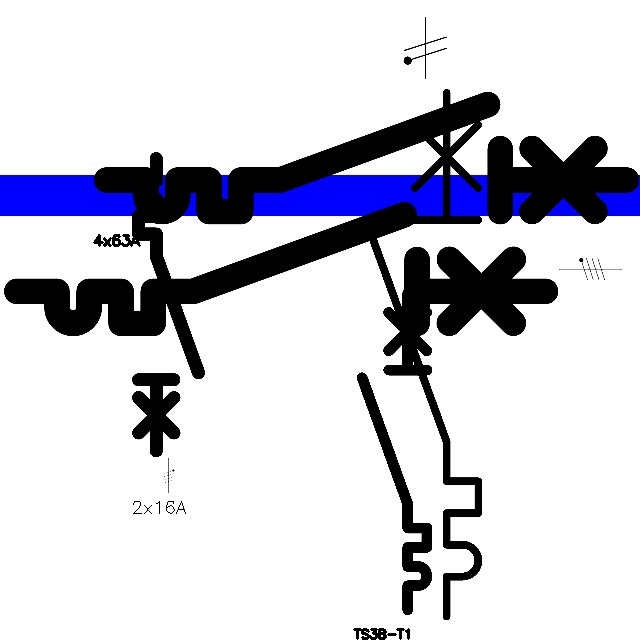interruptor_termomagnetico: (3, 201, 559, 337), (357, 79, 492, 630), (93, 91, 639, 225), (354, 285, 435, 618), (131, 151, 206, 458)
